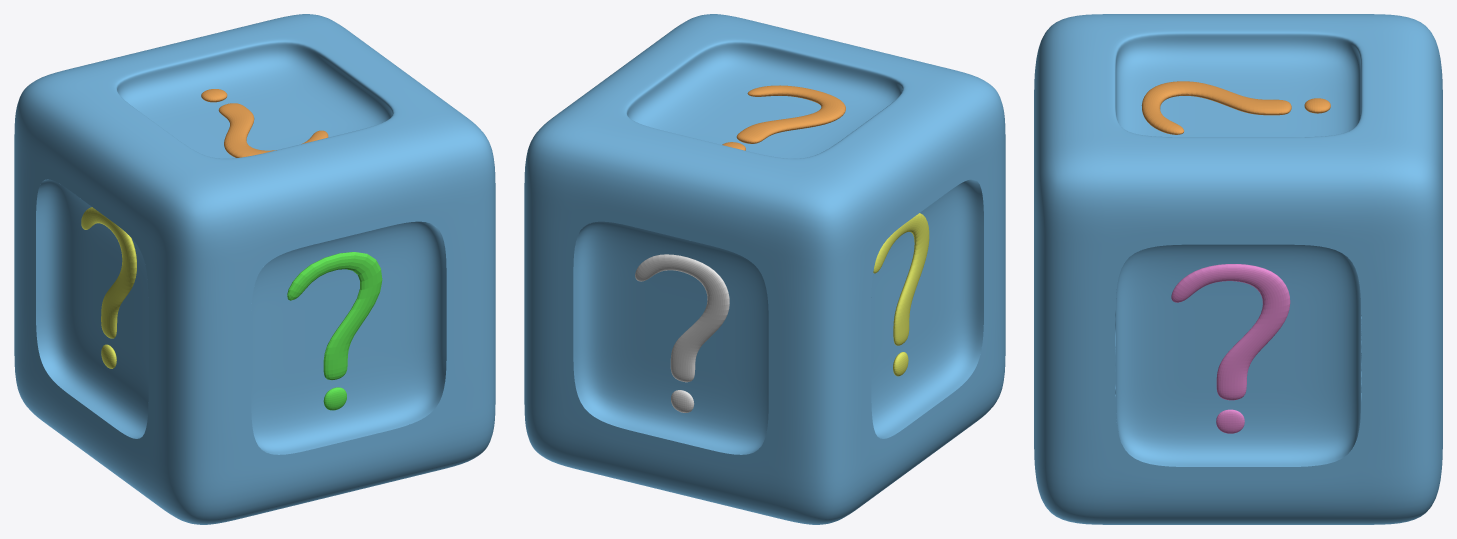
The model's file is boxLoot.fbx.
3 views of the same model, side by side, from view 1: azimuth 30°, elevation 25°; view 2: azimuth 150°, elevation 25°; view 3: azimuth 270°, elevation 25° (orthographic). The views are drawn at different scales.
Parts seen in each view (by area): view 1: Cube, Cube.007, Cube.005, Cube.011; view 2: Cube, Cube.001, Cube.011, Cube.005; view 3: Cube, Cube.003, Cube.011, Cube.004.
Boxes of the visible parts, x1=… form: Cube: x1=14, y1=14, x2=495, y2=524; Cube.007: x1=287, y1=252, x2=382, y2=380; Cube.005: x1=81, y1=207, x2=136, y2=338; Cube.011: x1=218, y1=103, x2=328, y2=157; Cube: x1=524, y1=14, x2=1005, y2=524; Cube.001: x1=635, y1=254, x2=729, y2=382; Cube.011: x1=736, y1=85, x2=845, y2=143; Cube.005: x1=873, y1=213, x2=929, y2=345; Cube: x1=1034, y1=14, x2=1442, y2=524; Cube.003: x1=1171, y1=264, x2=1290, y2=400; Cube.011: x1=1141, y1=81, x2=1291, y2=134; Cube.004: x1=1216, y1=409, x2=1244, y2=433.
Bounding box in the file's own units: 2 × 2 × 2.
